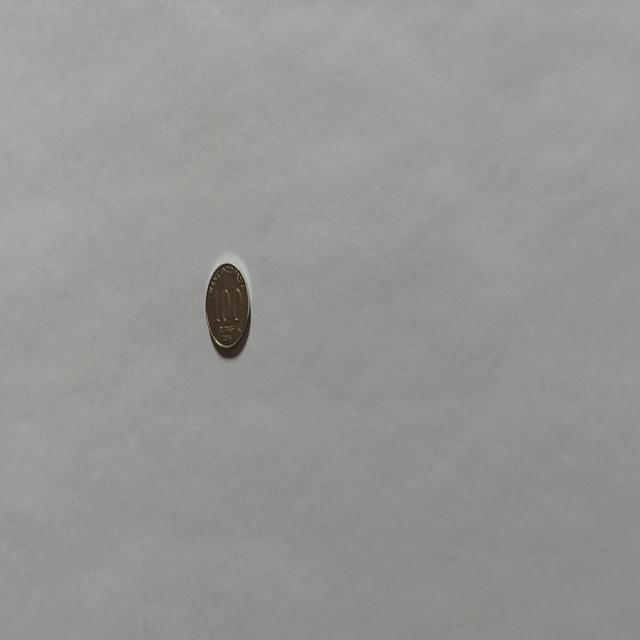seratus rupiah: (203, 260, 250, 354)
